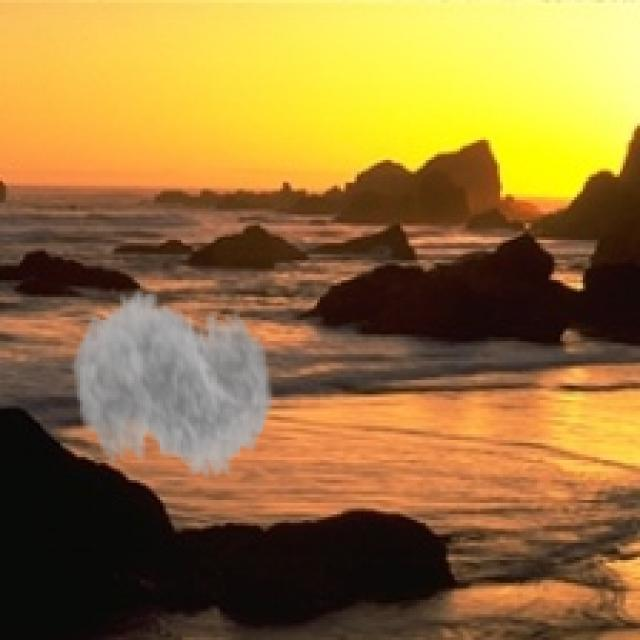Smoke: (72, 271, 274, 503)
